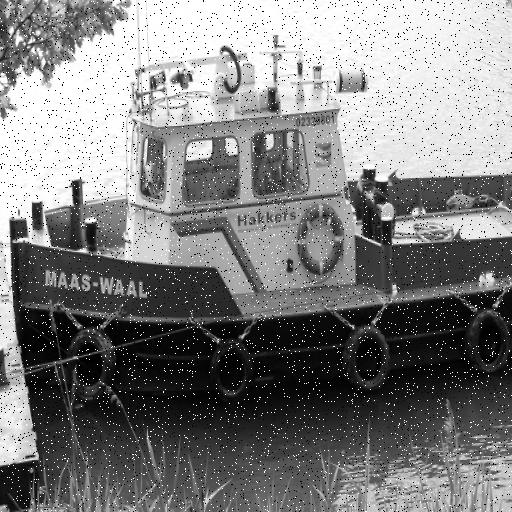tugboat: (3, 29, 512, 422)
